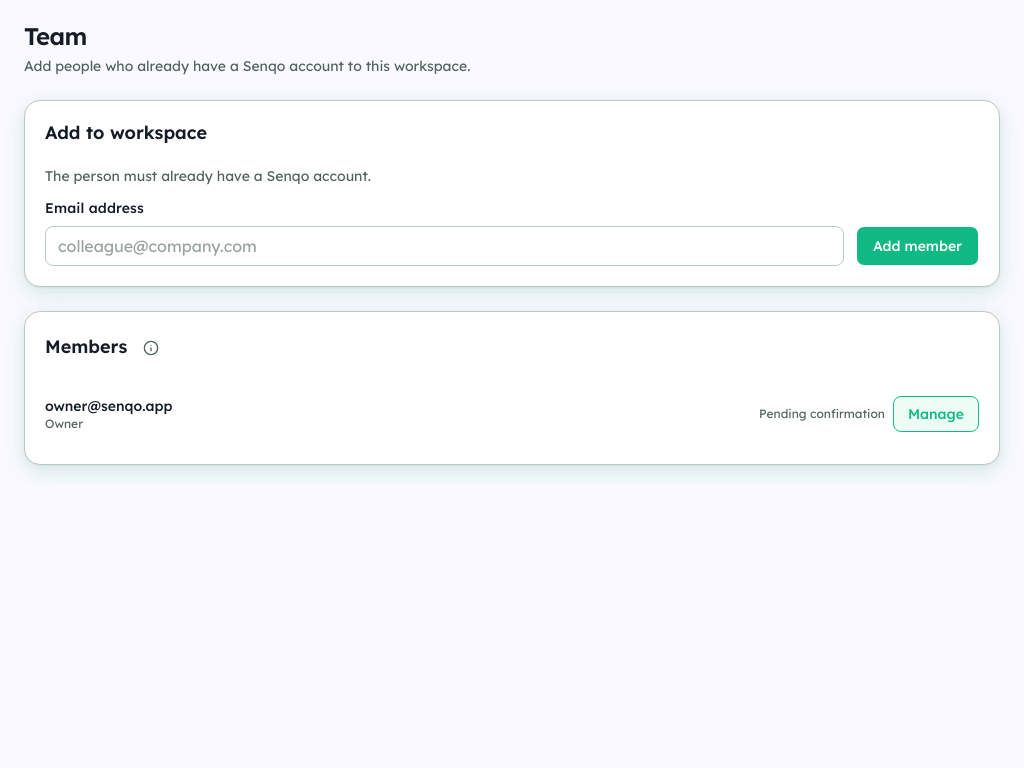
Scenario: Team settings page › shows code field when handoff phone status is pending
Expected: the text "Pending confirmation" is shown, [759, 406, 885, 422]
What coordinates should you click on to do the following:
click the button "Manage"
I would click on:
 (936, 414)
Its box is [893, 396, 979, 432].
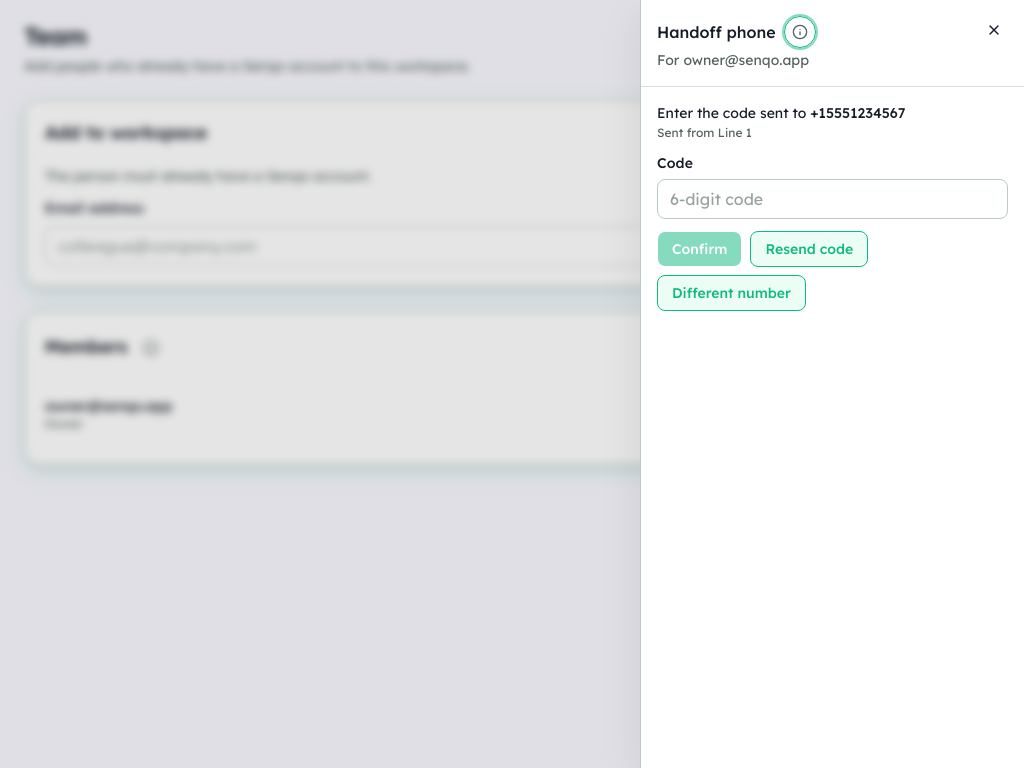
Expected: the field labelled "Code" is shown, [657, 179, 1008, 219]
Expected: the button "Confirm" is disabled, [657, 231, 742, 267]
